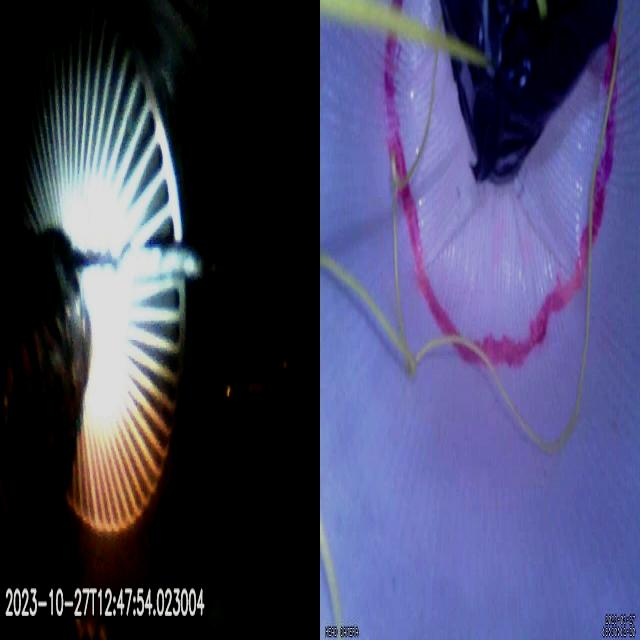red-circle: (383, 0, 618, 370)
